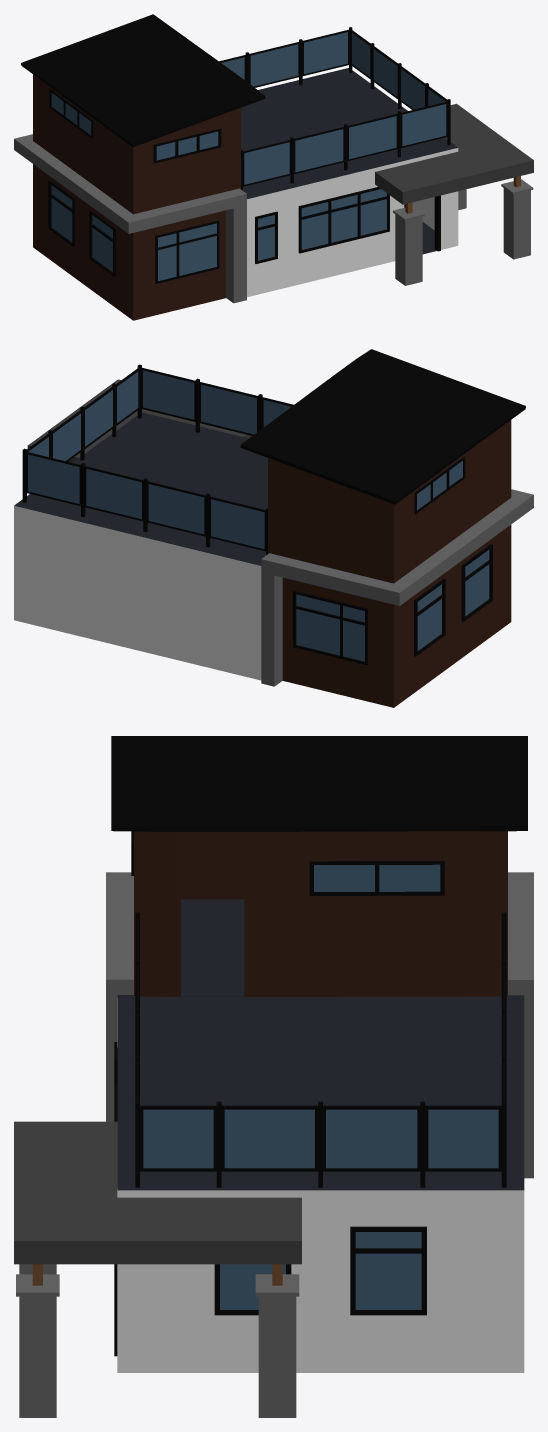
The model's file is Bungalow.fbx.
3 renders of one model, top to bottom at view 1: azimuth 30°, elevation 25°; view 2: azimuth 150°, elevation 25°; view 3: azimuth 270°, elevation 25°, orthographic. The views are drawn at different scales.
Parts seen in each view (by area): view 1: Extension2_Roof, Extension2_Wall, Balcony_Glass, Extension_Wall, Bungalow_Wall, Balcony_Floor, Bungalow_Windows, Panel, Details, Bungalow_Frame, Bungalow_Pillars, Balcony_Pillars; view 2: Bungalow_Wall, Extension2_Roof, Extension2_Wall, Balcony_Glass, Extension_Wall, Balcony_Floor, Details, Bungalow_Windows, Balcony_Pillars, Bungalow_Frame, Panel; view 3: Balcony_Floor, Extension2_Wall, Bungalow_Wall, Extension2_Roof, Panel, Balcony_Glass, Bungalow_Pillars, Bungalow_Windows, Details, Balcony_Pillars, Bungalow_Frame.
Boxes of the visible parts, x1,y1,x2,y2 form: Extension2_Roof: (21,14,265,147); Extension2_Wall: (33,74,240,214); Balcony_Glass: (221,32,446,184); Extension_Wall: (33,164,225,320); Bungalow_Wall: (247,148,458,297); Balcony_Floor: (241,68,457,198); Bungalow_Windows: (51,93,386,280); Panel: (375,103,533,204); Details: (14,134,246,303); Bungalow_Frame: (48,89,440,283); Bungalow_Pillars: (393,176,533,285); Balcony_Pillars: (219,27,450,190); Bungalow_Wall: (14,505,261,680); Extension2_Roof: (240,349,525,504); Extension2_Wall: (268,420,511,583); Balcony_Glass: (28,370,291,548); Extension_Wall: (282,525,511,707); Balcony_Floor: (14,412,267,565); Details: (261,489,533,686); Bungalow_Windows: (296,461,489,661); Balcony_Pillars: (22,364,293,555); Bungalow_Frame: (293,456,492,665); Panel: (27,379,251,462); Balcony_Floor: (117,899,524,1190); Extension2_Wall: (134,831,507,996); Bungalow_Wall: (117,998,524,1372); Extension2_Roof: (111,736,527,831); Panel: (14,1121,301,1264); Balcony_Glass: (143,1109,498,1168); Bungalow_Pillars: (16,1264,299,1417); Bungalow_Windows: (220,864,440,1309); Details: (106,872,533,1178); Balcony_Pillars: (135,912,506,1187); Bungalow_Frame: (114,831,444,1356).
Size of the model in its own units: 1214 by 615 by 771.
